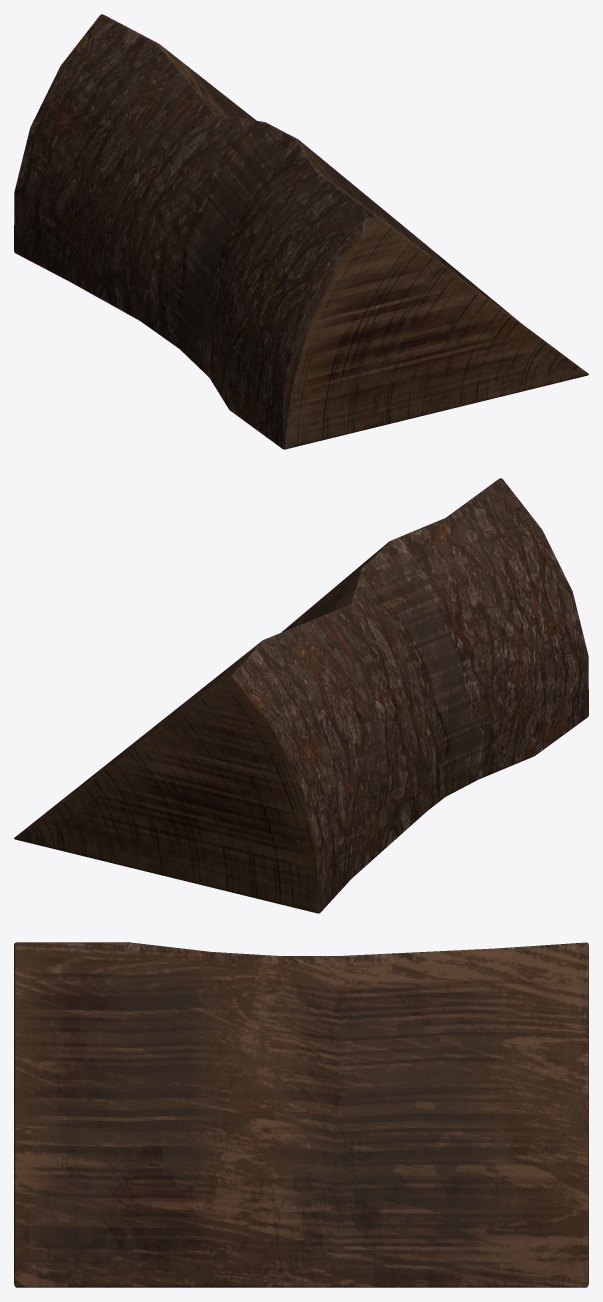
File: SM_FireWood_a.fbx
3 views of the same model, one above another, from view 1: azimuth 30°, elevation 25°; view 2: azimuth 150°, elevation 25°; view 3: azimuth 270°, elevation 25° (orthographic). The views are drawn at different scales.
Visible parts, largest first — view 1: SM_FireWood_a; view 2: SM_FireWood_a; view 3: SM_FireWood_a.
Boxes of the visible parts, bbox=[...] form: SM_FireWood_a: bbox=[14, 14, 588, 449]; SM_FireWood_a: bbox=[14, 478, 588, 913]; SM_FireWood_a: bbox=[14, 942, 588, 1287].
Bounding box in the file's own units: 34.22 × 52.21 × 23.25.
1 material, 1 textured.
